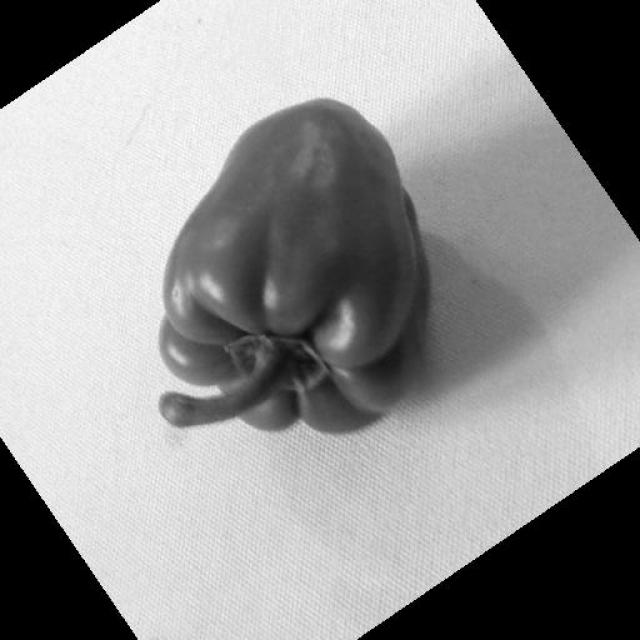Fresh_Capsicum: (168, 85, 436, 442)
